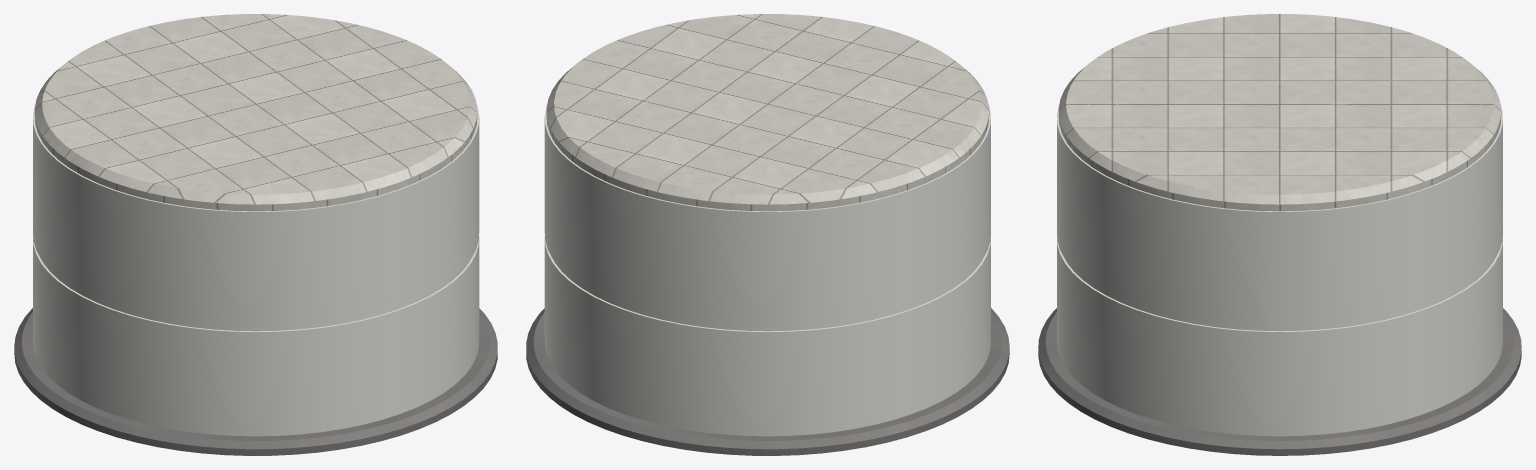
The model's file is ax_util_25_parachute_pack_l.glb.
3 views of the same model, side by side, from view 1: azimuth 30°, elevation 25°; view 2: azimuth 150°, elevation 25°; view 3: azimuth 270°, elevation 25° (orthographic).
Parts seen in each view (by area): view 1: canister, lid, recess_flange; view 2: canister, lid, recess_flange; view 3: canister, lid, recess_flange.
Boxes of the visible parts, <box> form: canister: <box>33,104,479,436</box>; lid: <box>34,14,477,211</box>; recess_flange: <box>14,308,497,455</box>; canister: <box>544,104,990,436</box>; lid: <box>546,14,989,211</box>; recess_flange: <box>526,308,1009,455</box>; canister: <box>1057,104,1502,436</box>; lid: <box>1058,14,1501,211</box>; recess_flange: <box>1038,308,1521,455</box>.
Size of the model in its own units: 1.3 by 0.74 by 1.3.
Materials: 4 (3 with a texture image).
